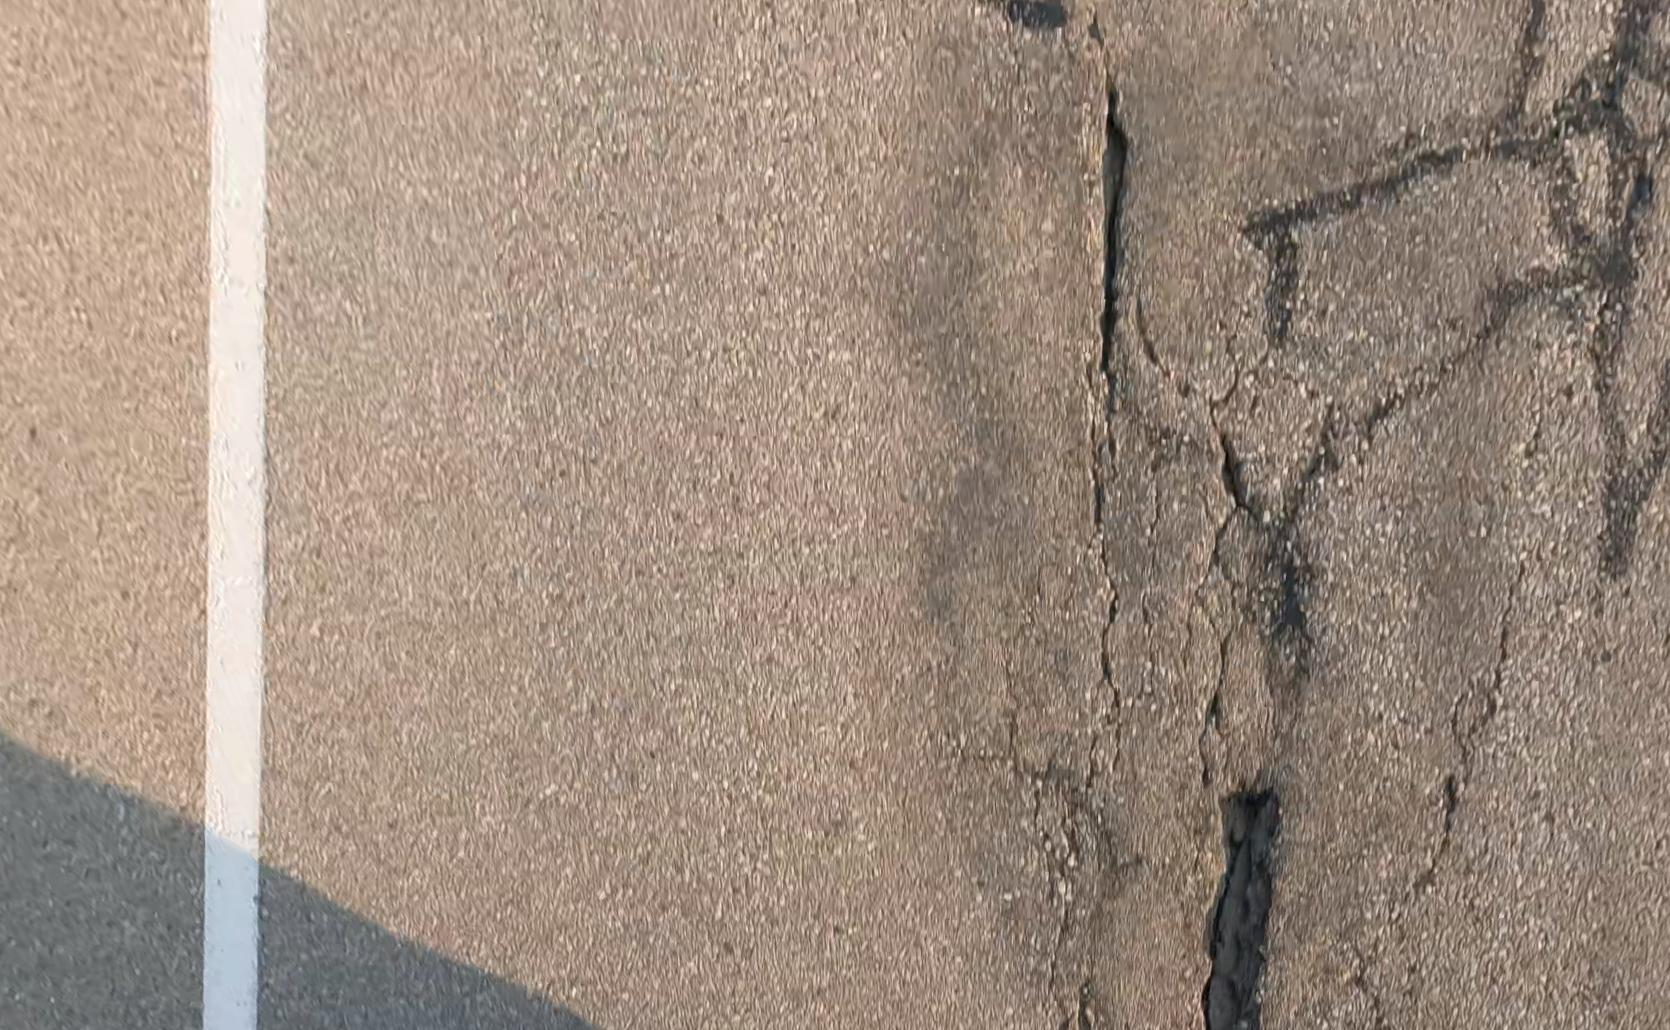pothole: (1198, 787, 1284, 1028), (1101, 75, 1131, 407), (1262, 524, 1307, 642)
